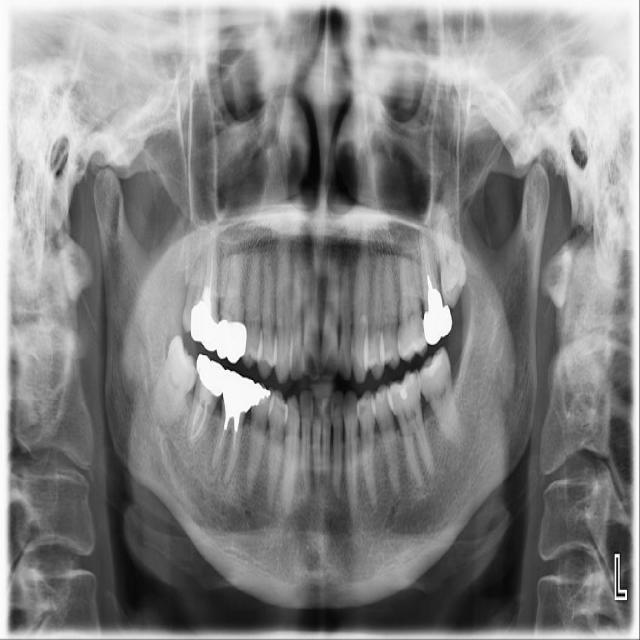3M ESPE Implant: (178, 249, 211, 335)
52: (177, 298, 257, 368), (211, 367, 274, 422), (184, 351, 235, 400), (385, 367, 424, 429), (421, 304, 455, 346)
73: (207, 393, 249, 487), (183, 370, 223, 452), (418, 217, 448, 318), (195, 228, 220, 323), (607, 560, 610, 580)
BioHorizons Implant: (417, 218, 454, 346)
BioLife Implant: (428, 198, 471, 311)
Blue Sky Bio Implant: (412, 346, 466, 451)
Caries: (190, 229, 218, 353)
Implant: (183, 352, 231, 454)
Keystone Dental Implant: (142, 333, 210, 430)
